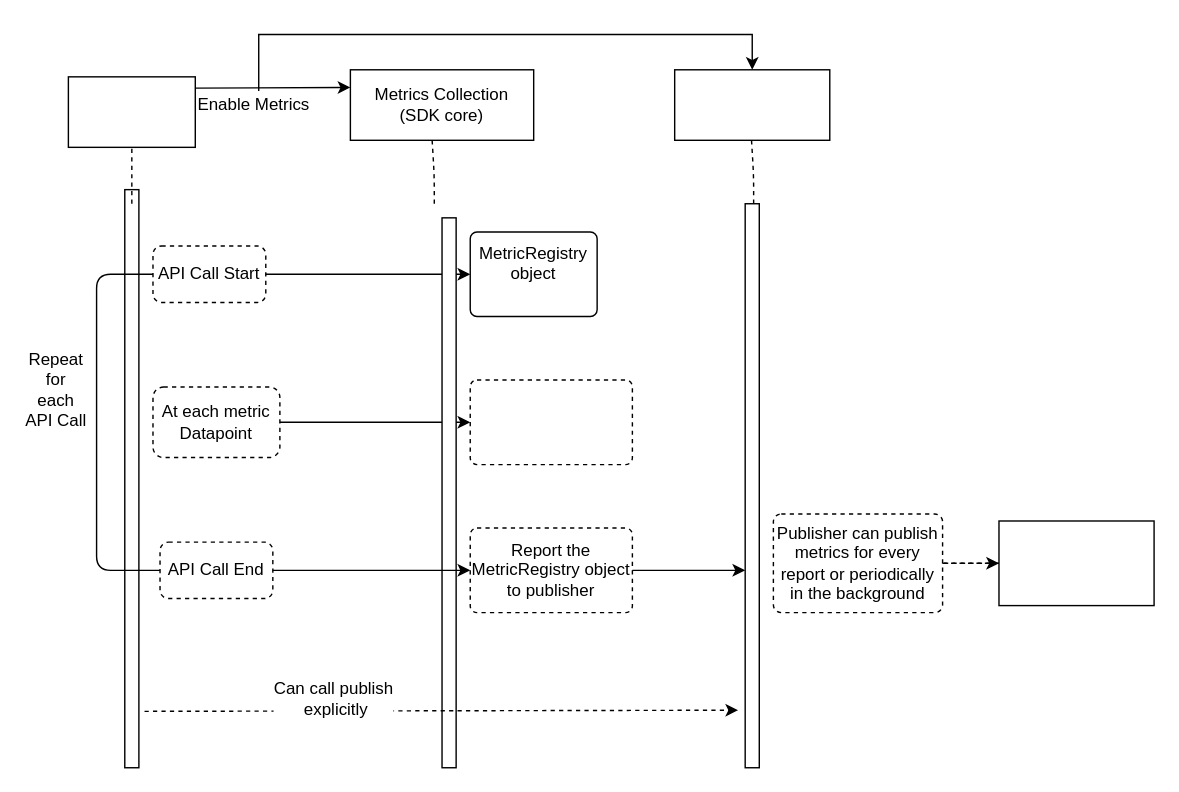
The diagram is 1179 pixels wide and 792 high, and some of its shapes have lost their labels. The box of each missing label's shape, as (x1, y1, x2, y2) in pixels:
Client: (67, 75, 195, 147)
External source like CloudWatch: (998, 520, 1154, 606)
MetricPublisher: (673, 68, 830, 140)
Record in registry if its category is enabled: (469, 379, 632, 465)
